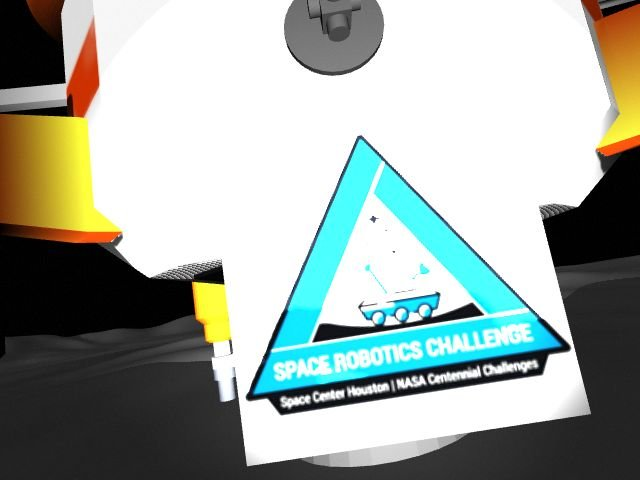basemarker: (247, 136, 571, 417)
